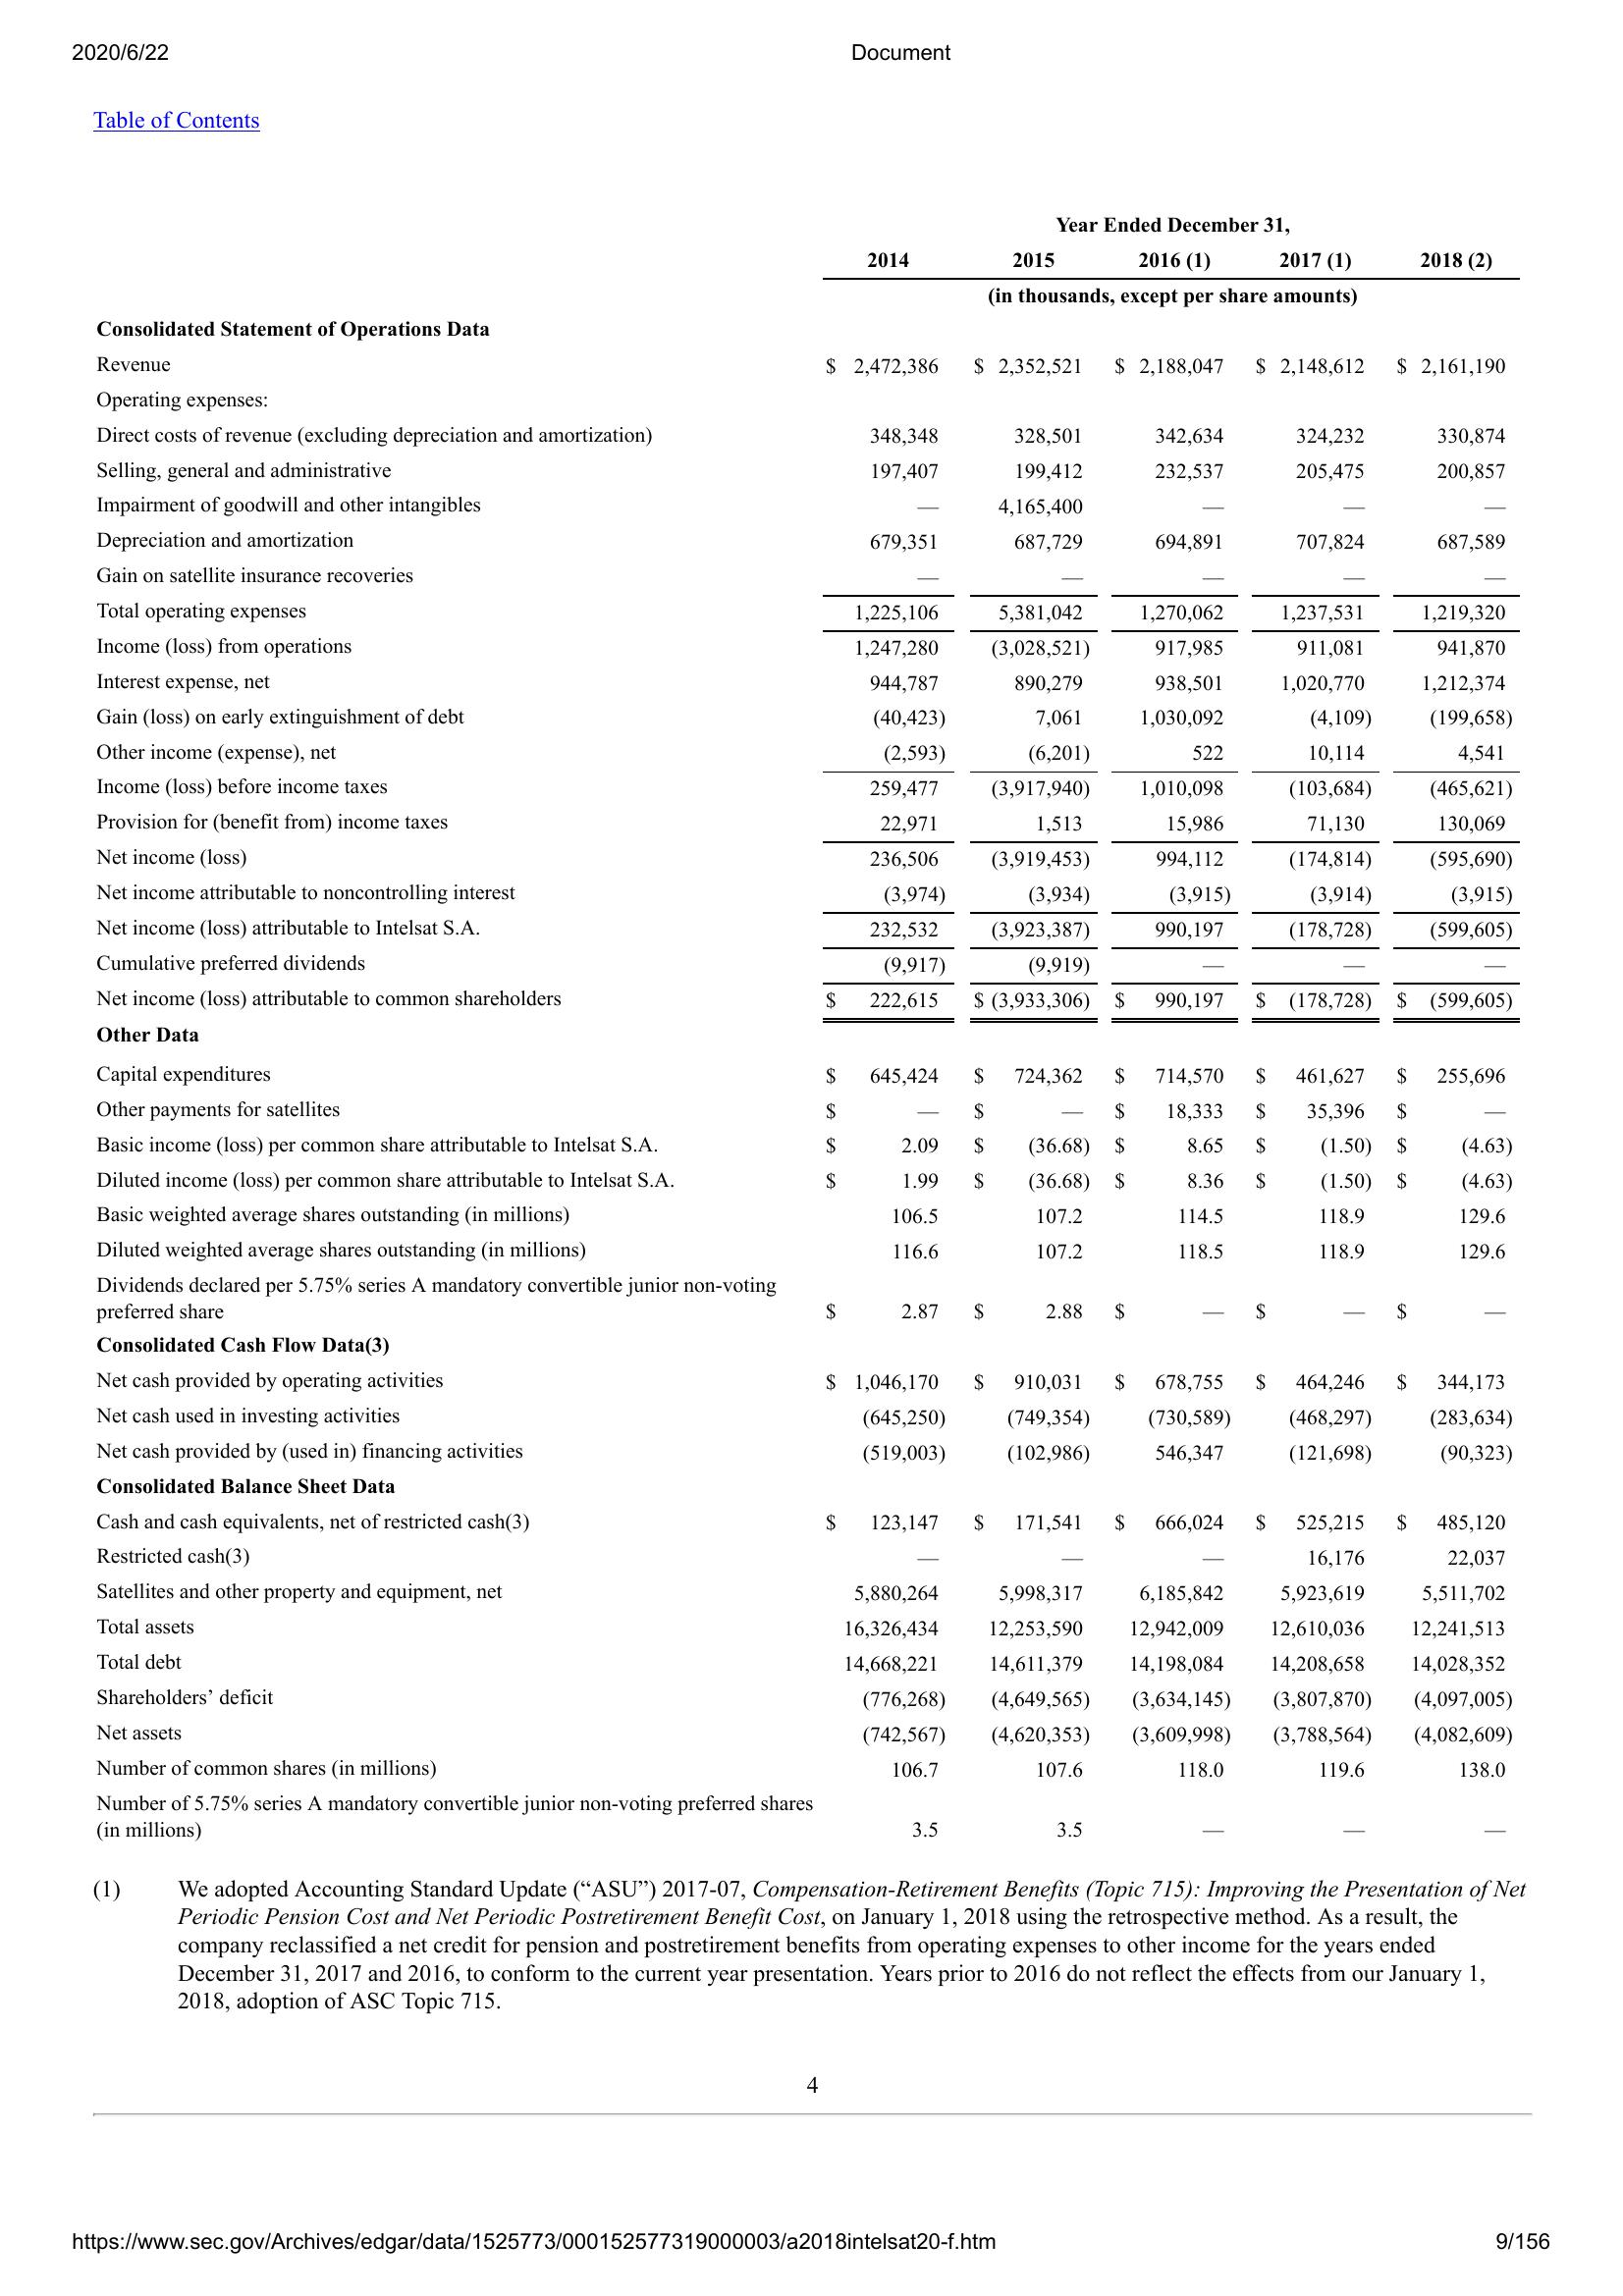table: (88, 211, 1539, 1845)
